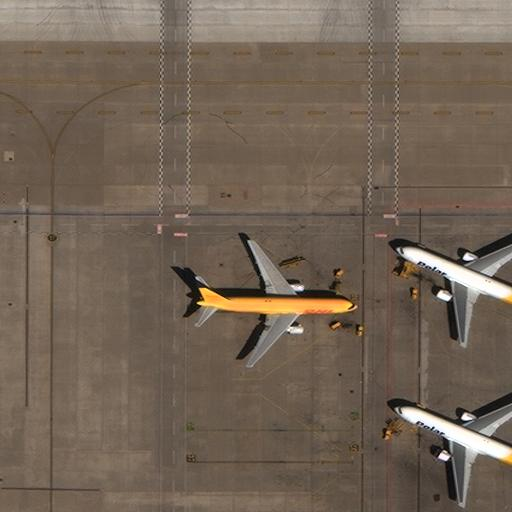Large Civil Transport: (193, 239, 358, 366), (391, 395, 511, 507), (395, 235, 511, 346)
